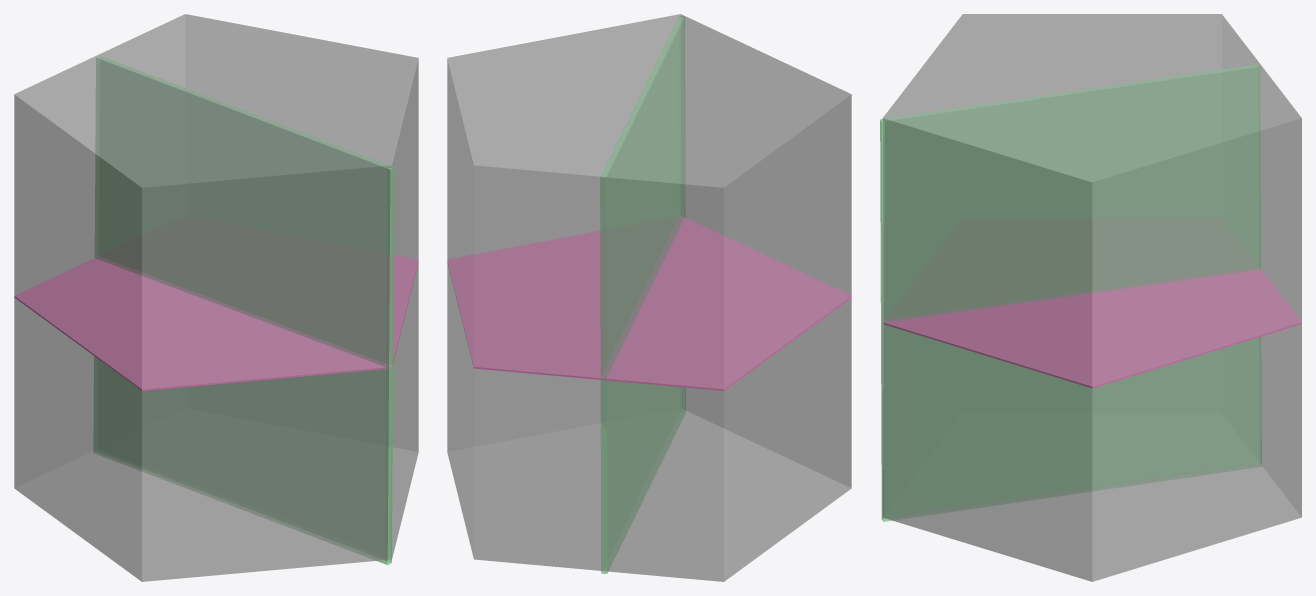
The model's file is planos_de_simetria_del_prisma.glb.
3 views of the same model, side by side, from view 1: azimuth 30°, elevation 25°; view 2: azimuth 150°, elevation 25°; view 3: azimuth 270°, elevation 25° (orthographic).
Visible parts, largest first — view 1: pCylinder1, pCube1, pCylinder2; view 2: pCylinder1, pCylinder2, pCube1; view 3: pCylinder1, pCube1, pCylinder2.
Boxes of the visible parts, left/top/right/bottom form: pCylinder1: left=14, top=14, right=418, bottom=581; pCube1: left=94, top=56, right=394, bottom=564; pCylinder2: left=14, top=255, right=418, bottom=390; pCylinder1: left=447, top=14, right=851, bottom=581; pCylinder2: left=447, top=216, right=851, bottom=390; pCube1: left=600, top=16, right=685, bottom=573; pCylinder1: left=882, top=14, right=1301, bottom=581; pCube1: left=880, top=64, right=1261, bottom=521; pCylinder2: left=883, top=267, right=1301, bottom=388.
Bounding box in the file's own units: 1.81 × 2.02 × 1.91.
